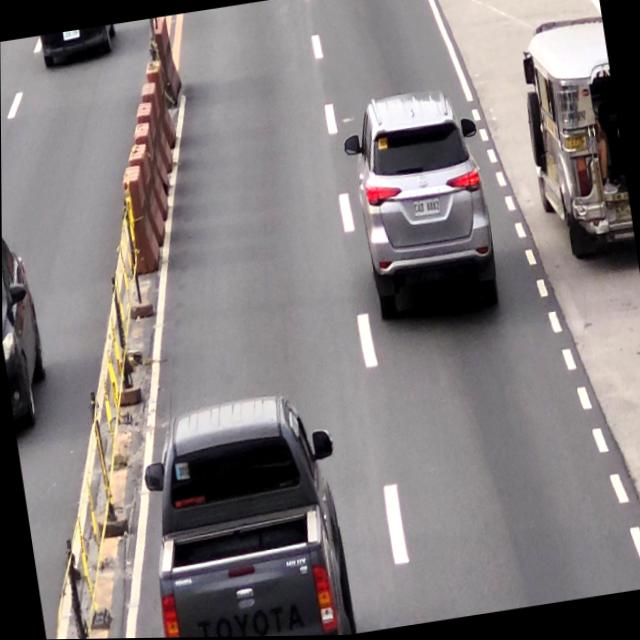Car: (349, 92, 501, 324)
Jeep: (515, 17, 635, 262)
License-Plate: (413, 197, 443, 222)
